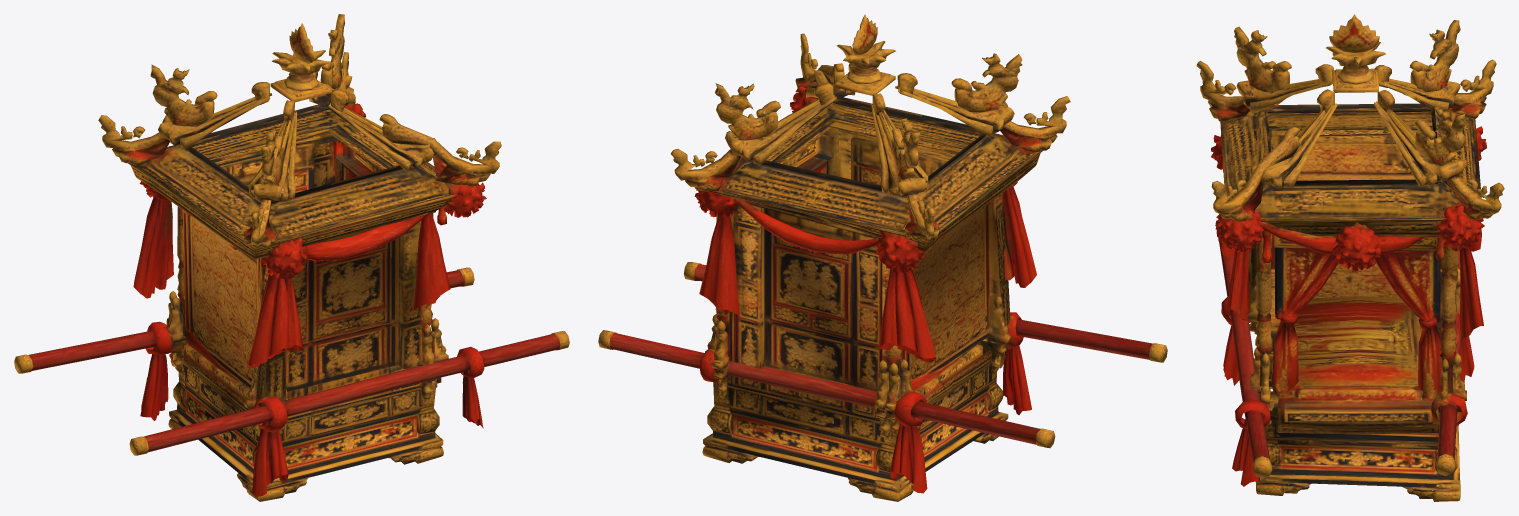
File: sedan.glb
3 views of the same model, side by side, from view 1: azimuth 30°, elevation 25°; view 2: azimuth 150°, elevation 25°; view 3: azimuth 270°, elevation 25° (orthographic). The views are drawn at different scales.
Parts seen in each view (by area): view 1: tripo_node_fc3cbd02-d7e5-4aff-adf8-c082cf89a7ca; view 2: tripo_node_fc3cbd02-d7e5-4aff-adf8-c082cf89a7ca; view 3: tripo_node_fc3cbd02-d7e5-4aff-adf8-c082cf89a7ca.
Part boxes in pixels (<box>): tripo_node_fc3cbd02-d7e5-4aff-adf8-c082cf89a7ca: <box>14,14,569,501</box>; tripo_node_fc3cbd02-d7e5-4aff-adf8-c082cf89a7ca: <box>598,14,1167,501</box>; tripo_node_fc3cbd02-d7e5-4aff-adf8-c082cf89a7ca: <box>1196,14,1504,501</box>.
Size of the model in its own units: 0.9995 by 0.896 by 0.5757.
1 material, 1 textured.
